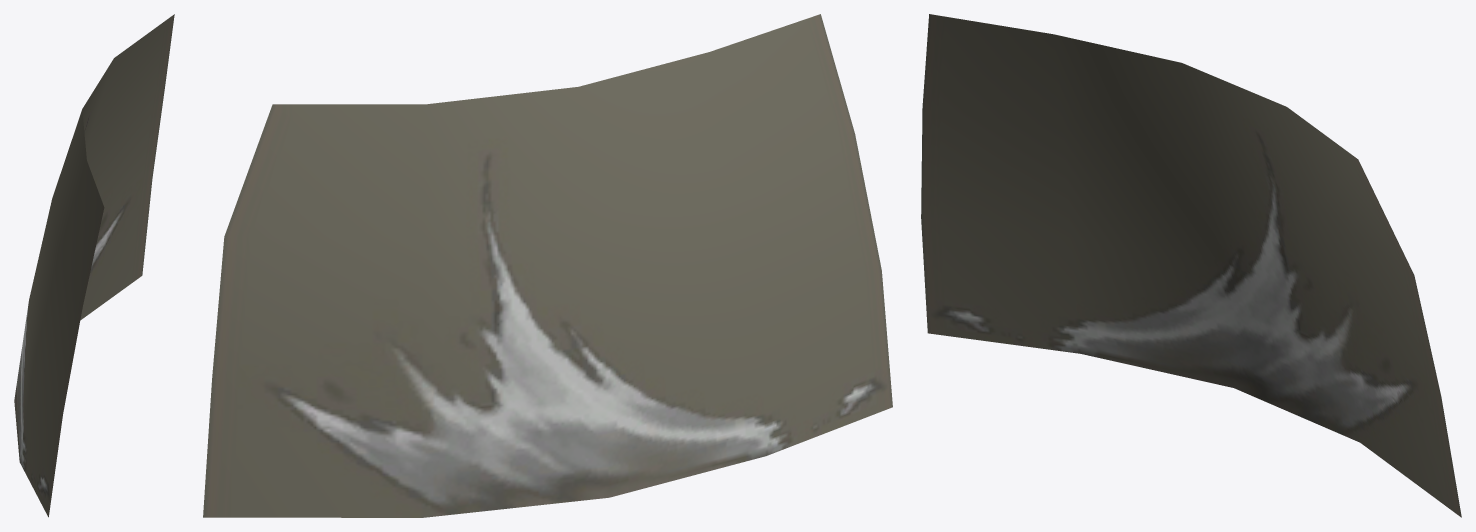
Rendered from yanchen002.FBX.
3 views of the same model, side by side, from view 1: azimuth 30°, elevation 25°; view 2: azimuth 150°, elevation 25°; view 3: azimuth 270°, elevation 25° (orthographic). The views are drawn at different scales.
Parts seen in each view (by area): view 1: yanchen002; view 2: yanchen002; view 3: yanchen002.
Boxes of the visible parts, x1,y1,x2,y2 form: yanchen002: [14, 14, 174, 517]; yanchen002: [203, 14, 892, 517]; yanchen002: [921, 14, 1461, 517].
Bounding box in the file's own units: 133 × 117 × 163.
